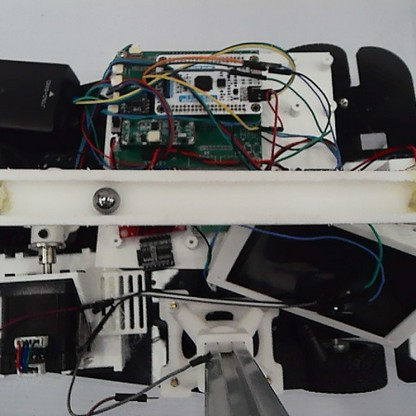ironball: (90, 183, 124, 216)
